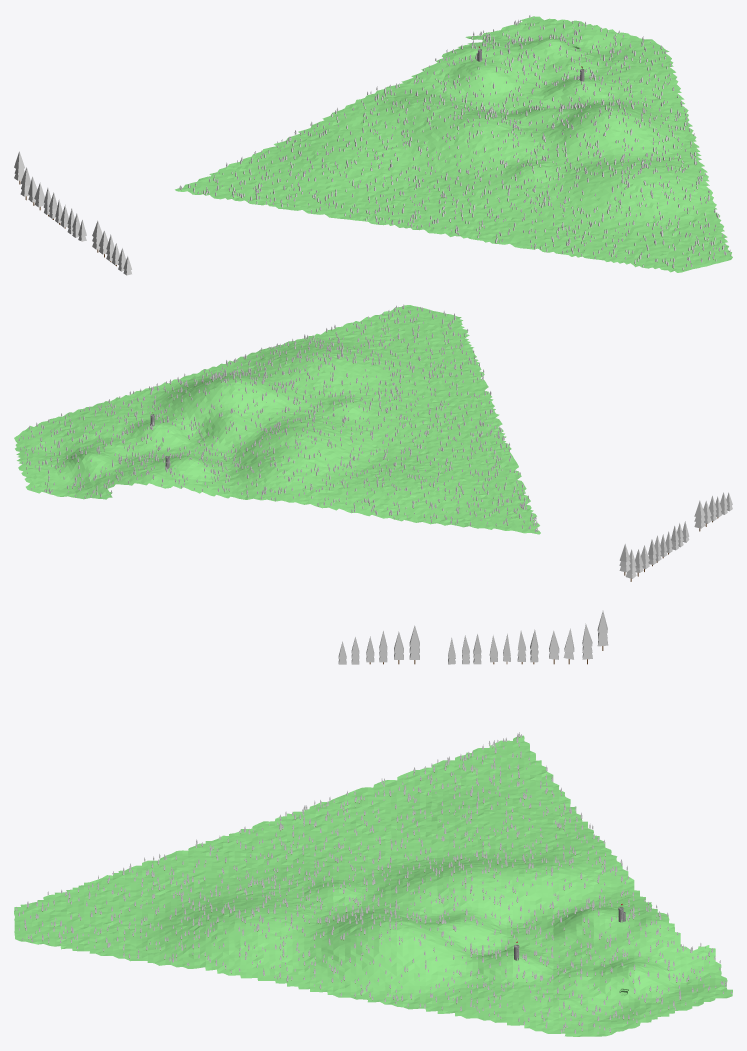
The model's file is blender_en.fbx.
3 views of the same model, one above another, from view 1: azimuth 30°, elevation 25°; view 2: azimuth 150°, elevation 25°; view 3: azimuth 270°, elevation 25° (orthographic). The views are drawn at different scales.
Parts seen in each view (by area): view 1: Plane; view 2: Plane; view 3: Plane.
Boxes of the visible parts, bbox=[...] form: Plane: bbox=[175, 16, 732, 272]; Plane: bbox=[14, 305, 540, 534]; Plane: bbox=[14, 735, 732, 1036].
Bounding box in the file's own units: 9227 × 690 × 7466.
